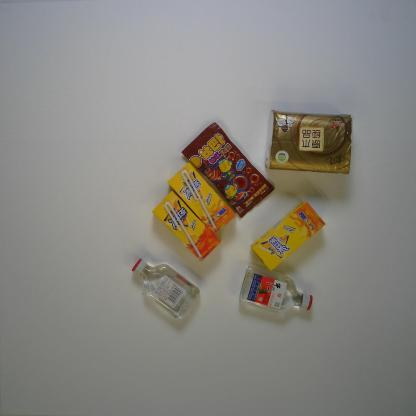Alcohol: (130, 256, 201, 319), (237, 261, 314, 314)
Candy: (181, 122, 276, 219)
Drink: (250, 201, 326, 273), (166, 162, 237, 236), (151, 189, 222, 262)
Tissue: (264, 105, 354, 175)
